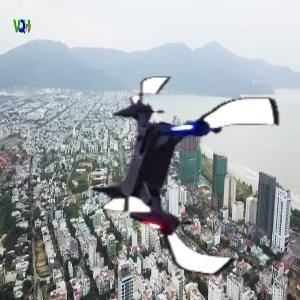drone: (81, 73, 291, 283)
